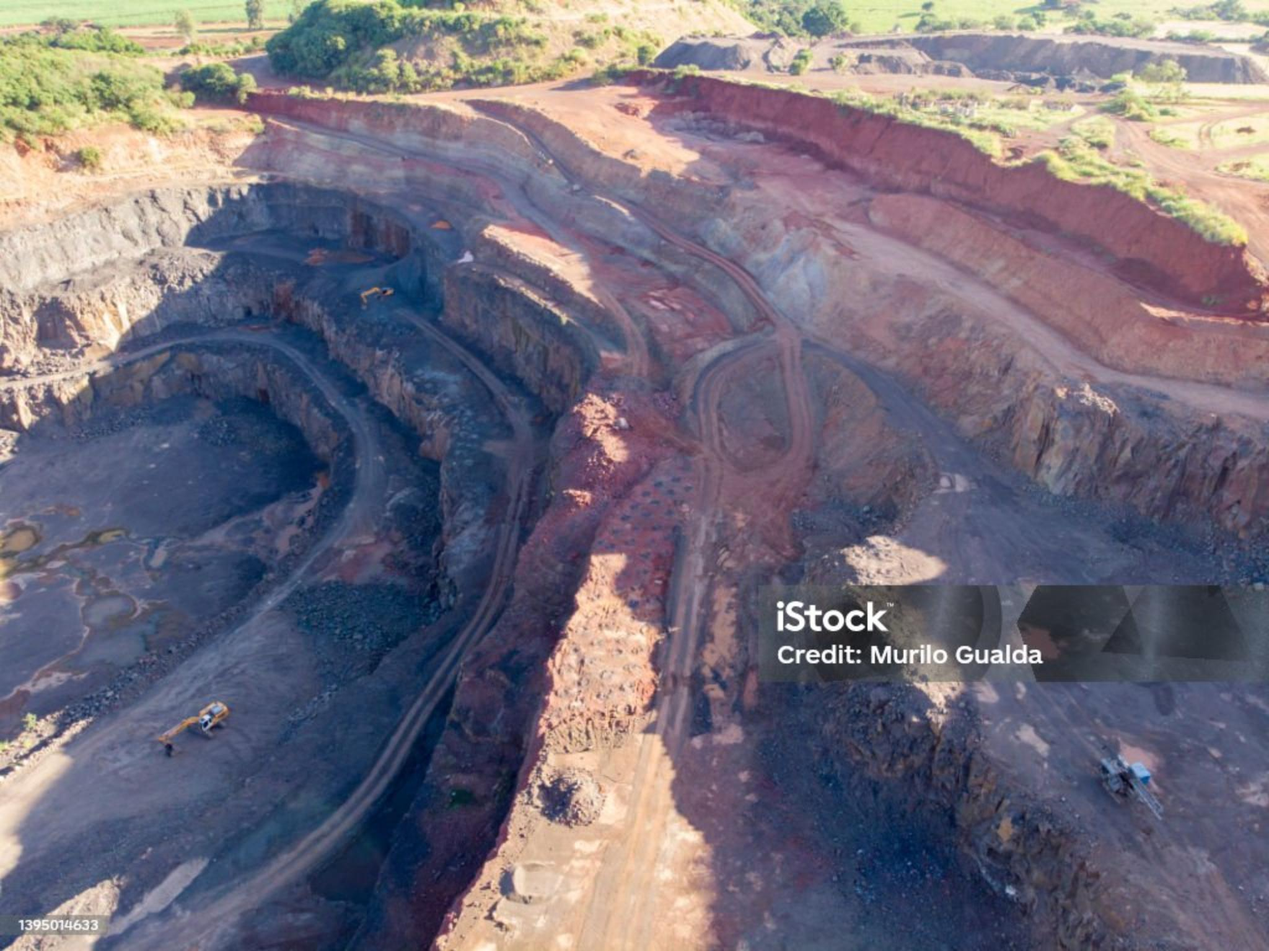benches: (499, 119, 1138, 947), (10, 242, 514, 950), (177, 304, 540, 935), (203, 620, 478, 920), (253, 376, 385, 617), (420, 324, 483, 372)
excavator: (153, 690, 256, 760)
